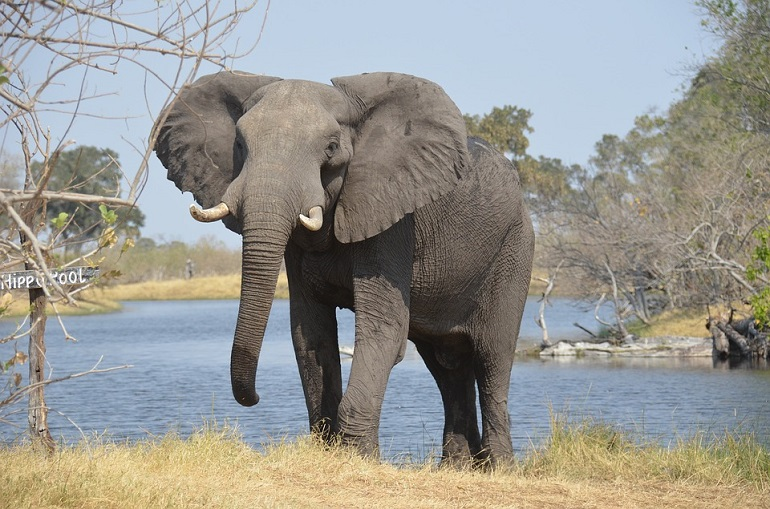Elephant: (144, 42, 584, 486)
